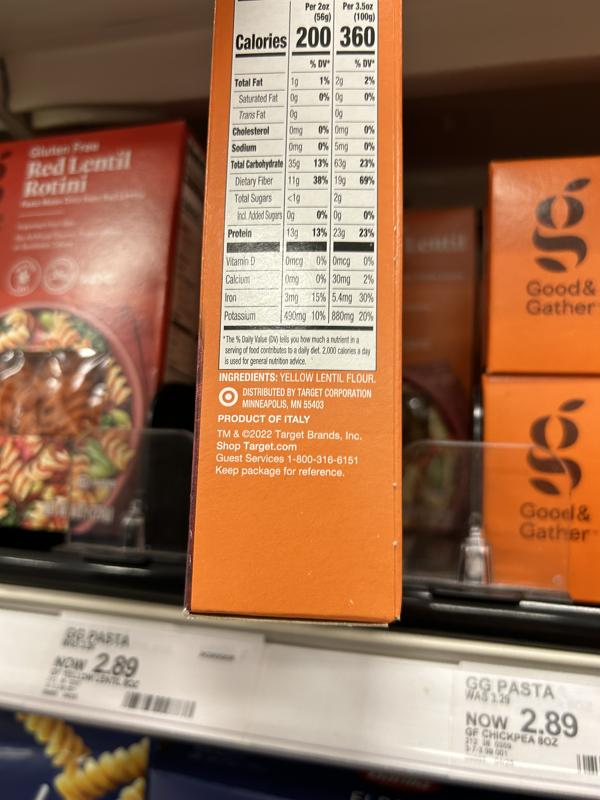ingredients: (216, 370, 377, 385)
